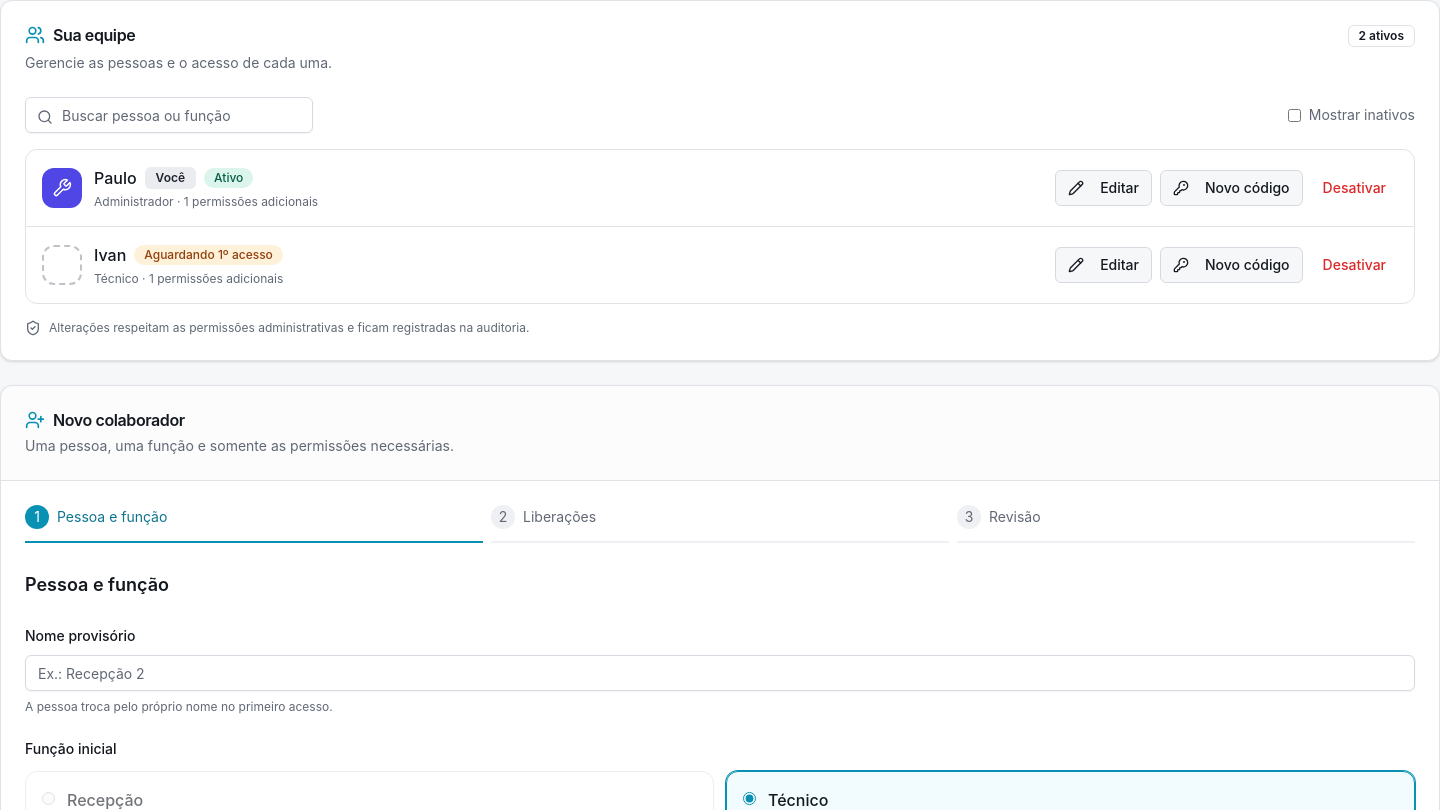
gestão da equipe › recusa reativar perfil incompatível e mostra o erro da trava
Check: the text "Ivan" is shown, box 94,243 -> 126,267
Click the checkbox labelled "Mostrar inativos": (1294, 115) 1288,108 -> 1301,122
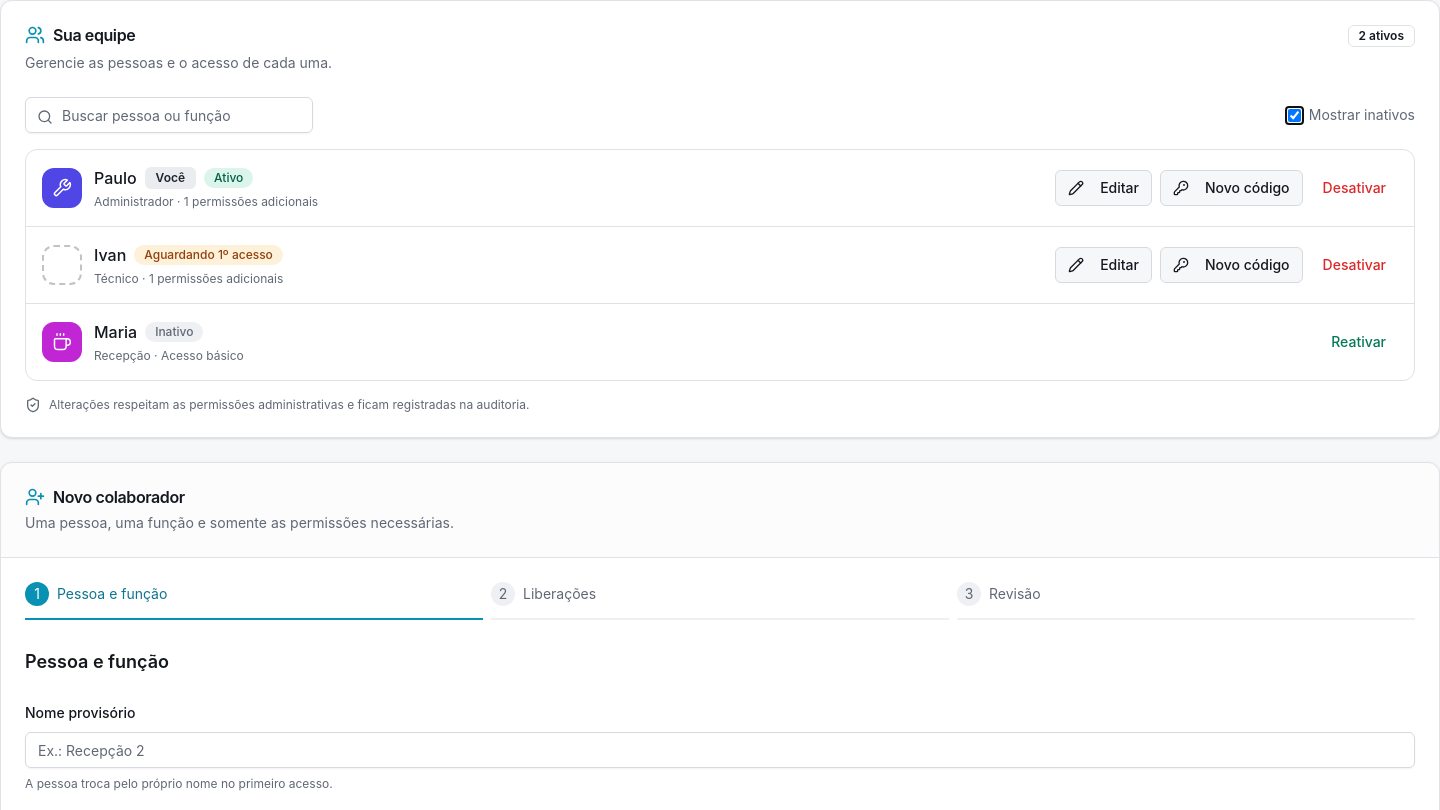
Click the button "Reativar": (1359, 342) 1319,324 -> 1398,360
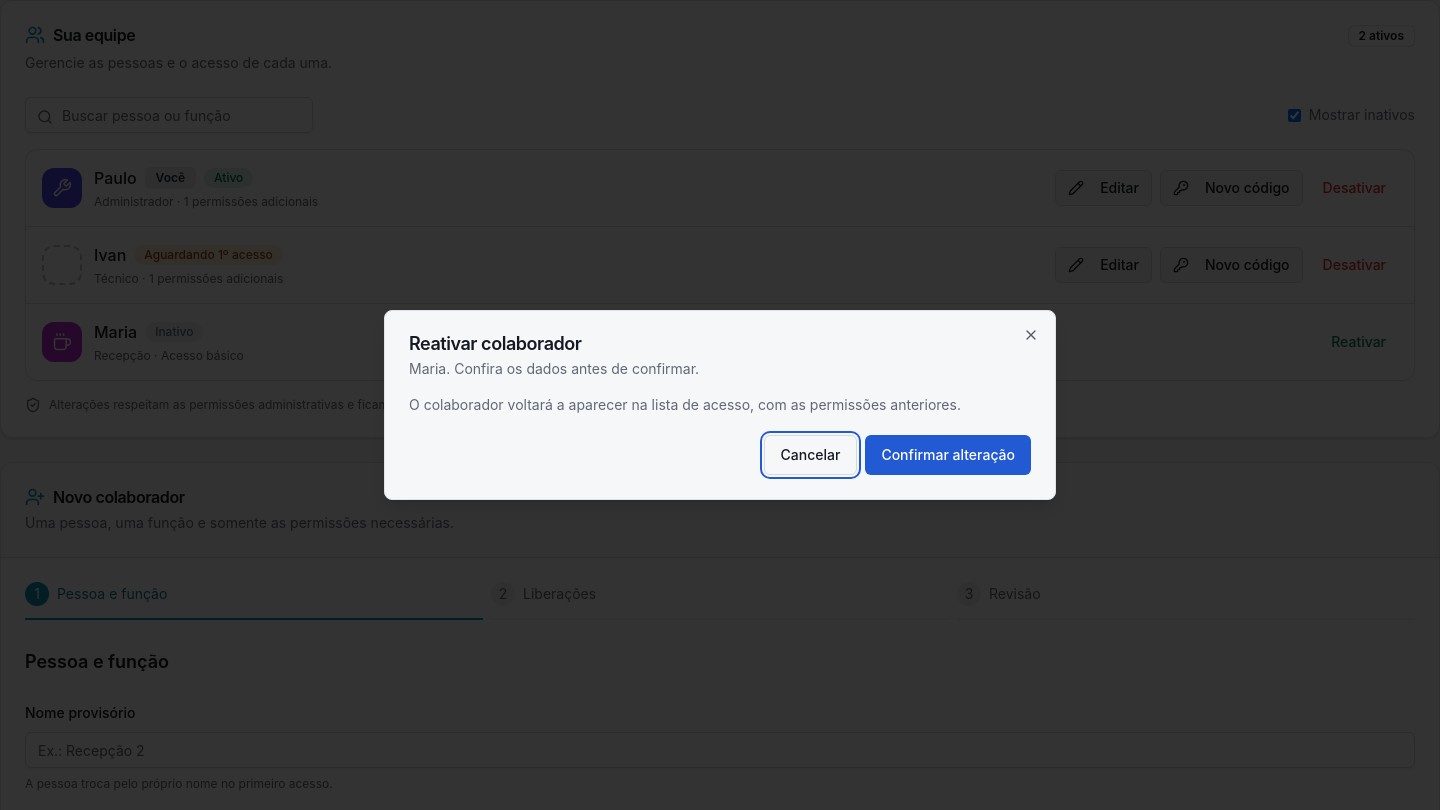
Click the button "Confirmar alteração": (948, 455) 865,435 -> 1031,475
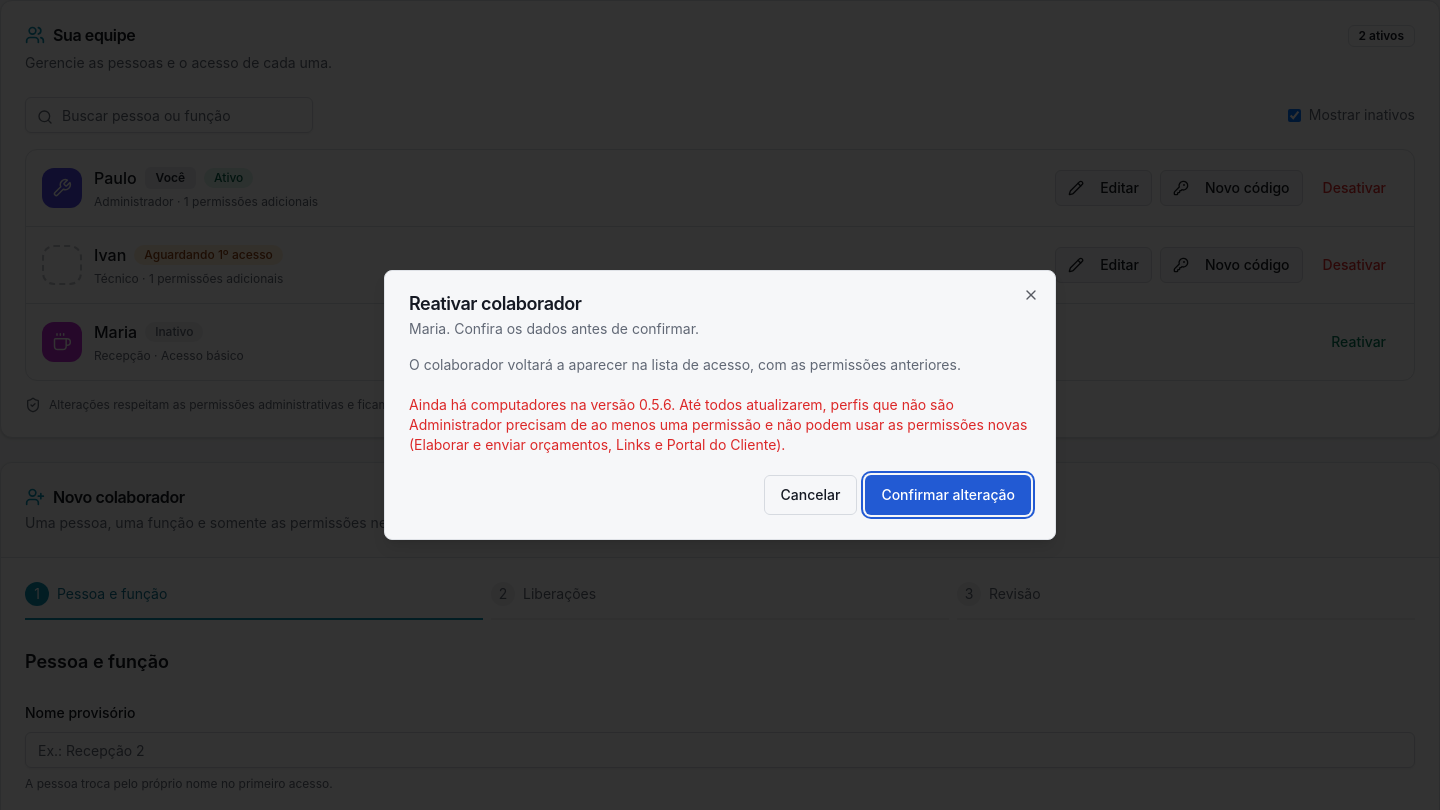
Check: the message shows "0.5.6", box 409,396 -> 1027,453
